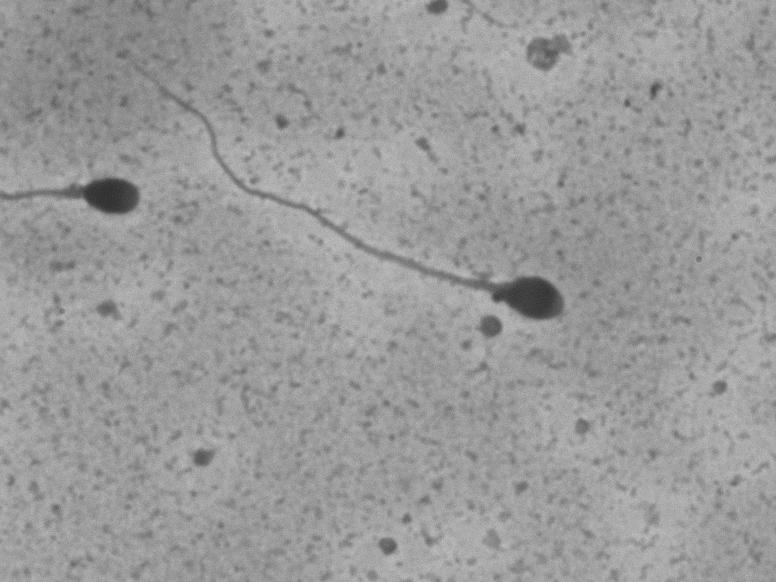Abnormal: (123, 57, 590, 339)
